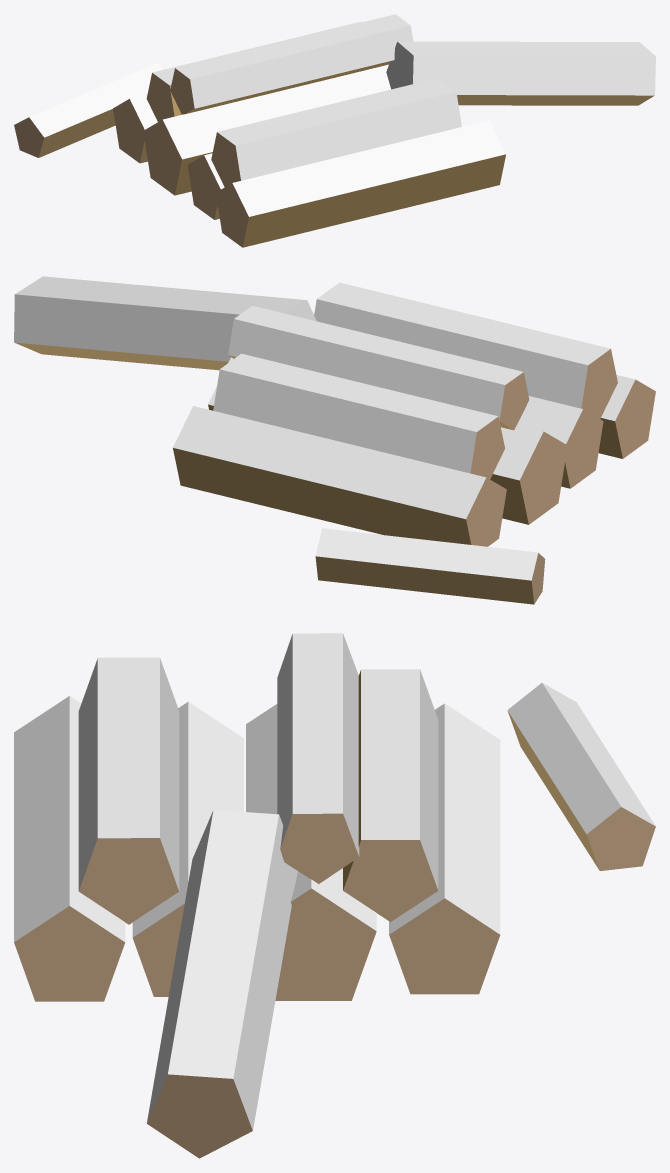
Rendered from Simple_Firewood_Pile_Snow_02_LOD.fbx.
3 views of the same model, one above another, from view 1: azimuth 30°, elevation 25°; view 2: azimuth 150°, elevation 25°; view 3: azimuth 270°, elevation 25° (orthographic). The views are drawn at different scales.
Parts seen in each view (by area): view 1: Simple_Firewood_Pile_Snow_02_LOD0; view 2: Simple_Firewood_Pile_Snow_02_LOD0; view 3: Simple_Firewood_Pile_Snow_02_LOD0.
Part boxes in pixels (box(x1,y1,x2,y2)): Simple_Firewood_Pile_Snow_02_LOD0: box(14, 14, 655, 247); Simple_Firewood_Pile_Snow_02_LOD0: box(14, 276, 655, 604); Simple_Firewood_Pile_Snow_02_LOD0: box(14, 633, 655, 1158).
Size of what is drawn, in the model's own units: 120 by 23.85 by 76.16.
